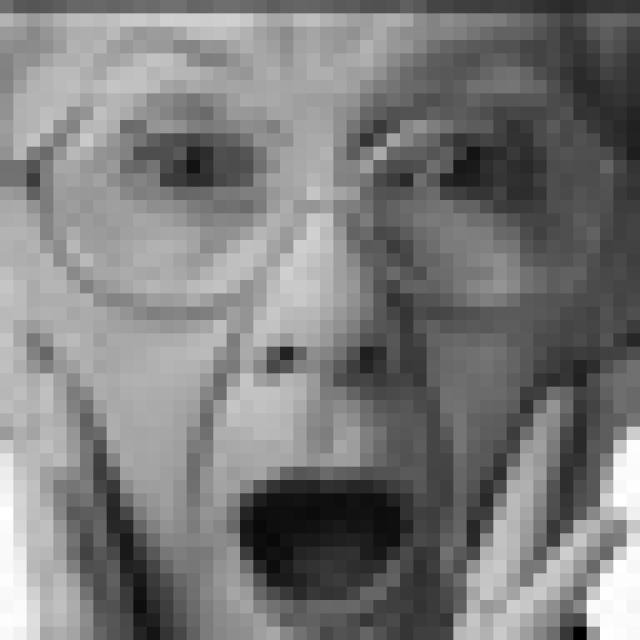surprise: (33, 22, 606, 640)
